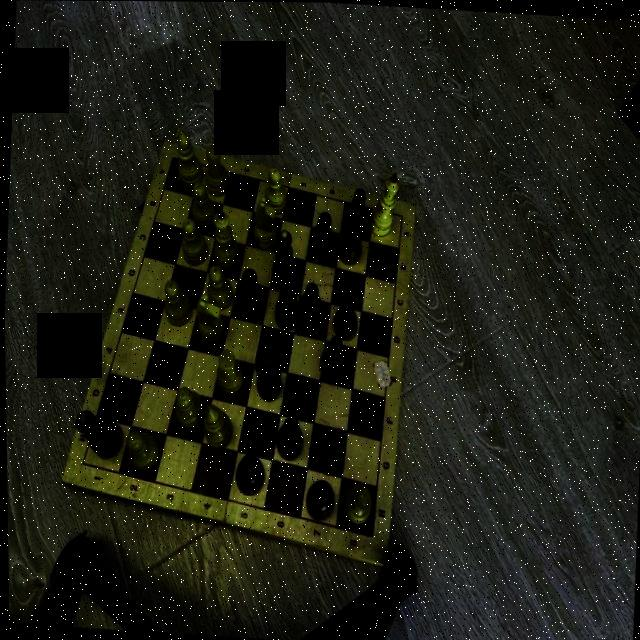chess-table-corners: (77, 456, 87, 470), (366, 530, 376, 542), (398, 212, 405, 220), (170, 154, 176, 162)
